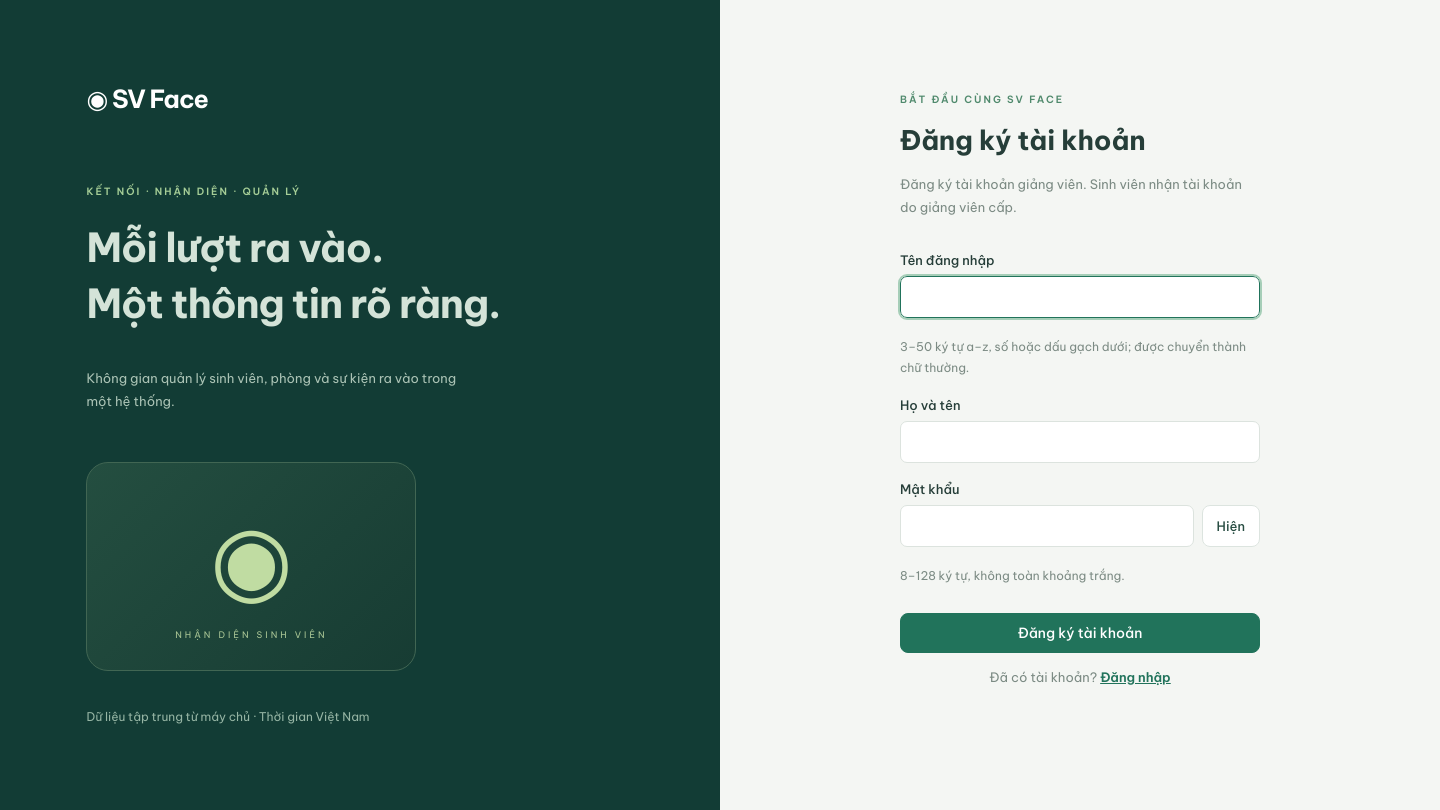
it: Đăng ký và đăng nhập đơn giản › username trùng 409 giữ trang đăng ký, không báo thành công
This screenshot has width=1440, height=810.
Step 1. Type "test_only" into the field labelled "Tên đăng nhập" → (1080, 297), box [900, 276, 1260, 318]
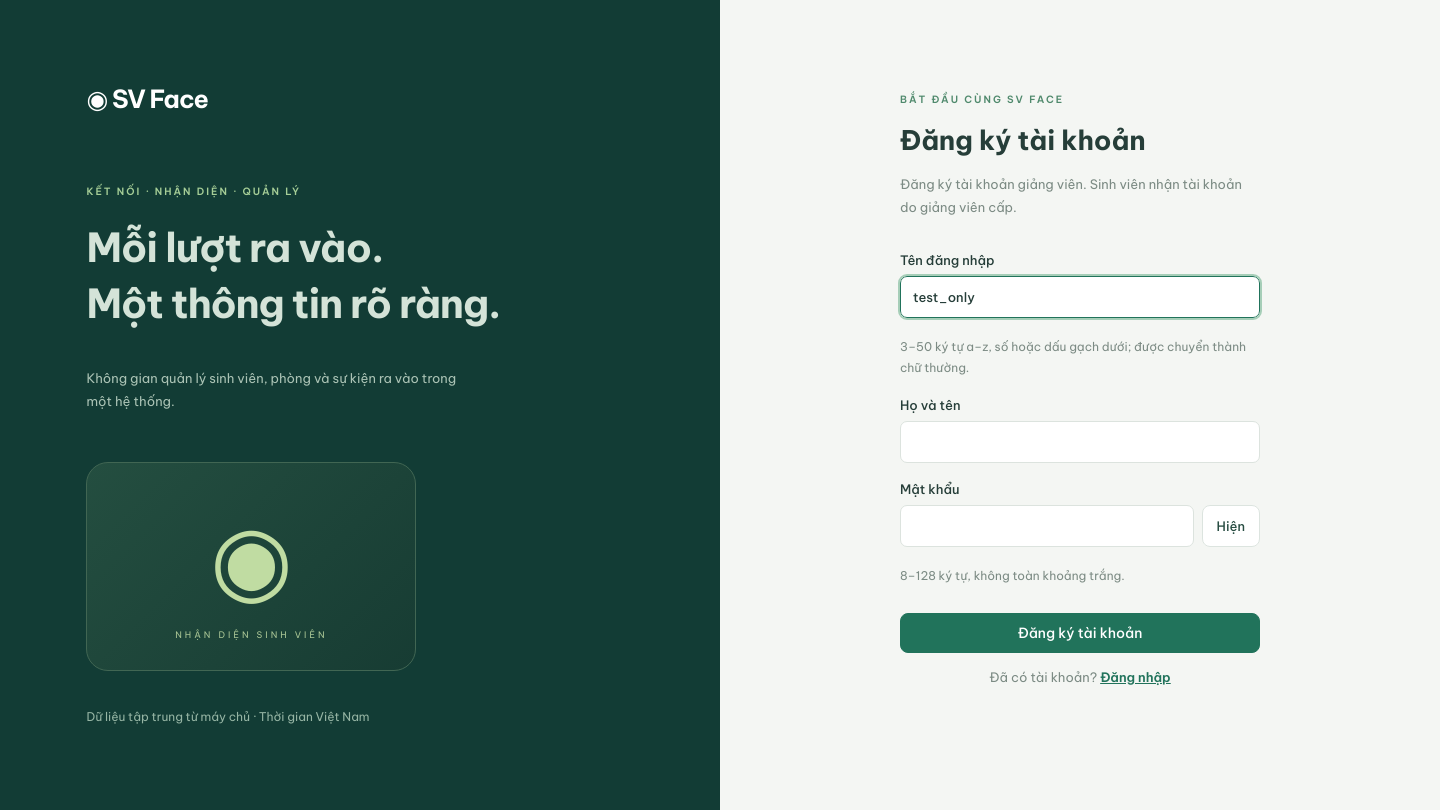
Step 2. Type "Tên kiểm thử" into the field labelled "Họ và tên" → (1080, 442), box [900, 421, 1260, 463]
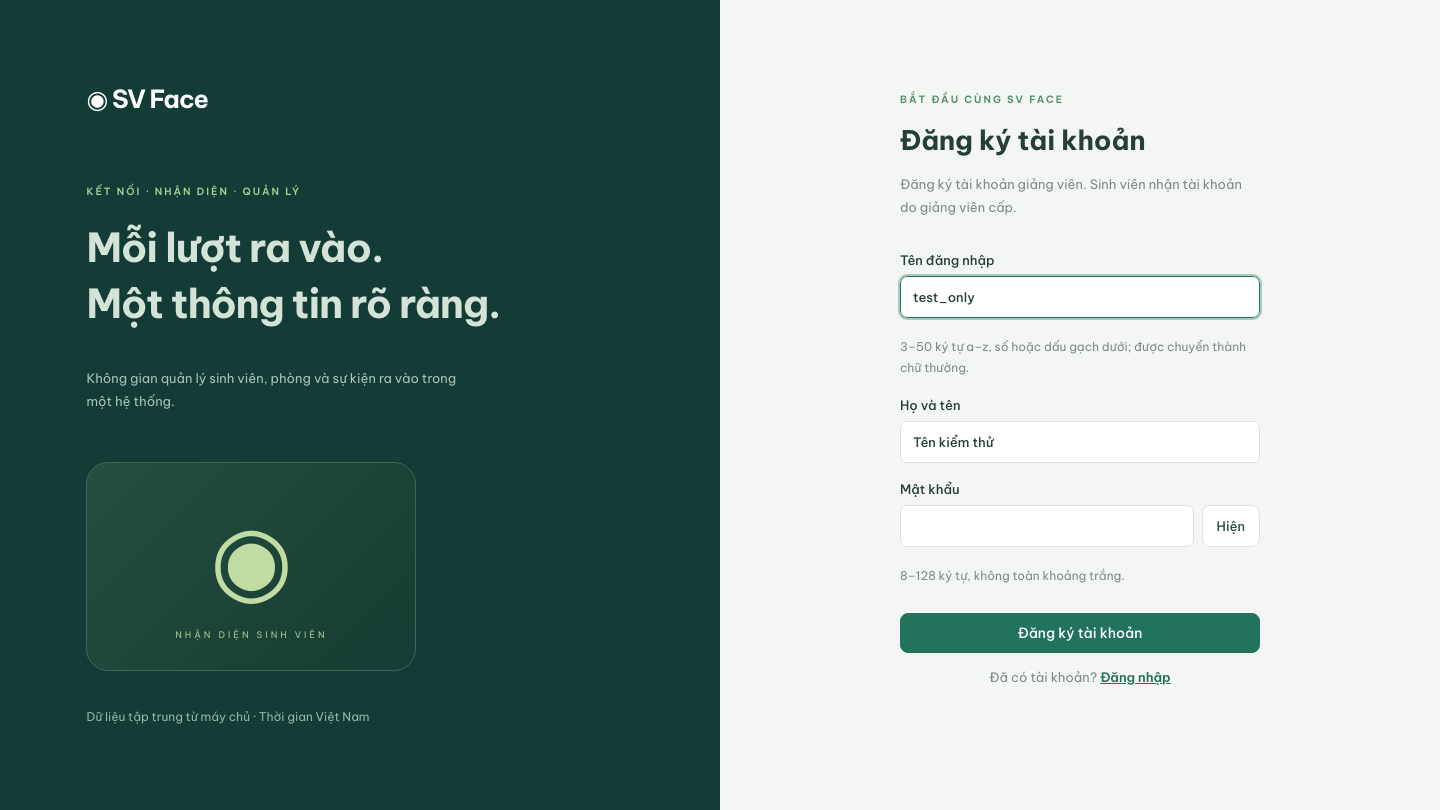
Step 3. Type "test-only-password" into the password field labelled "Mật khẩu" → (1047, 526), box [900, 505, 1194, 547]
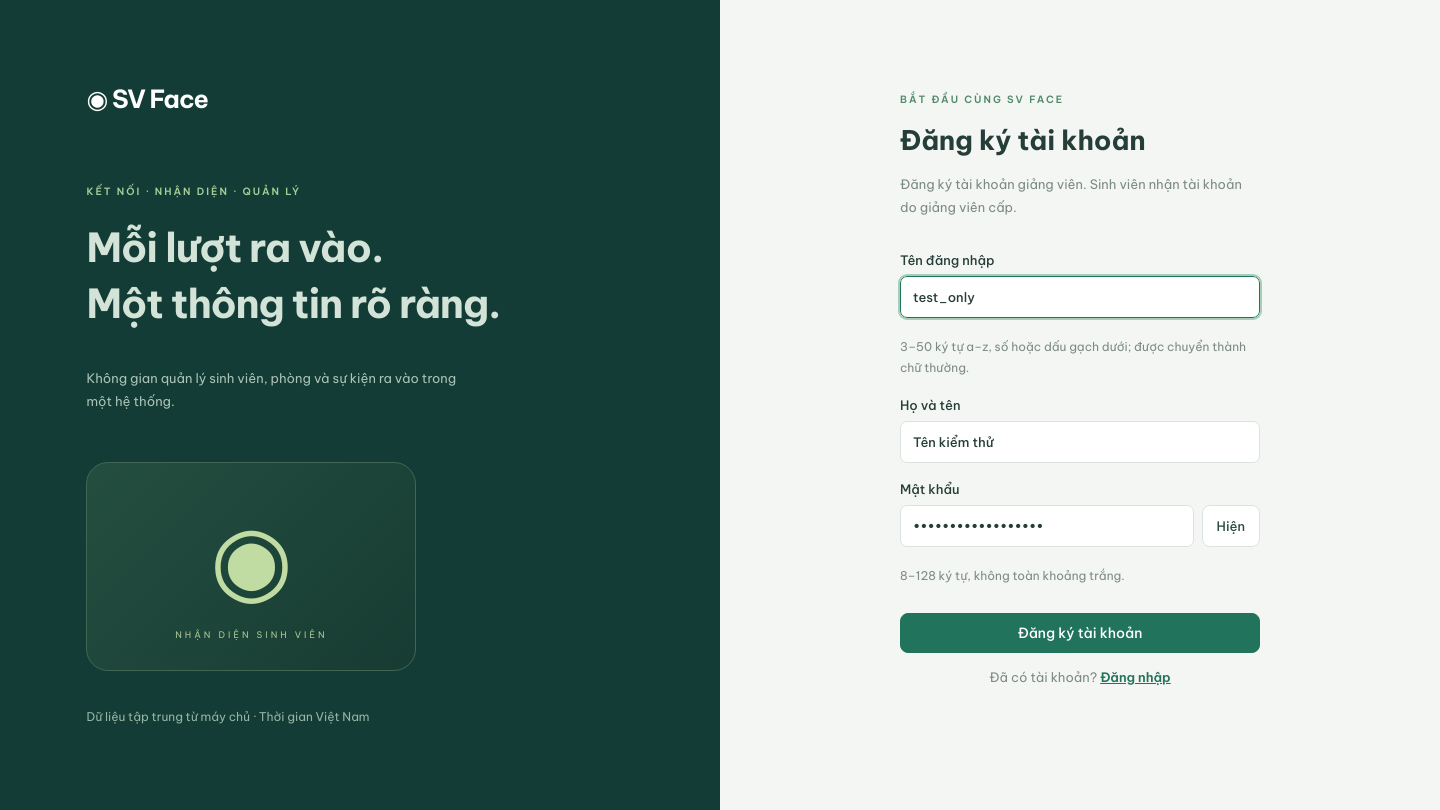
Step 4. Click the button "Đăng ký tài khoản" → (1080, 633), box [900, 613, 1260, 653]
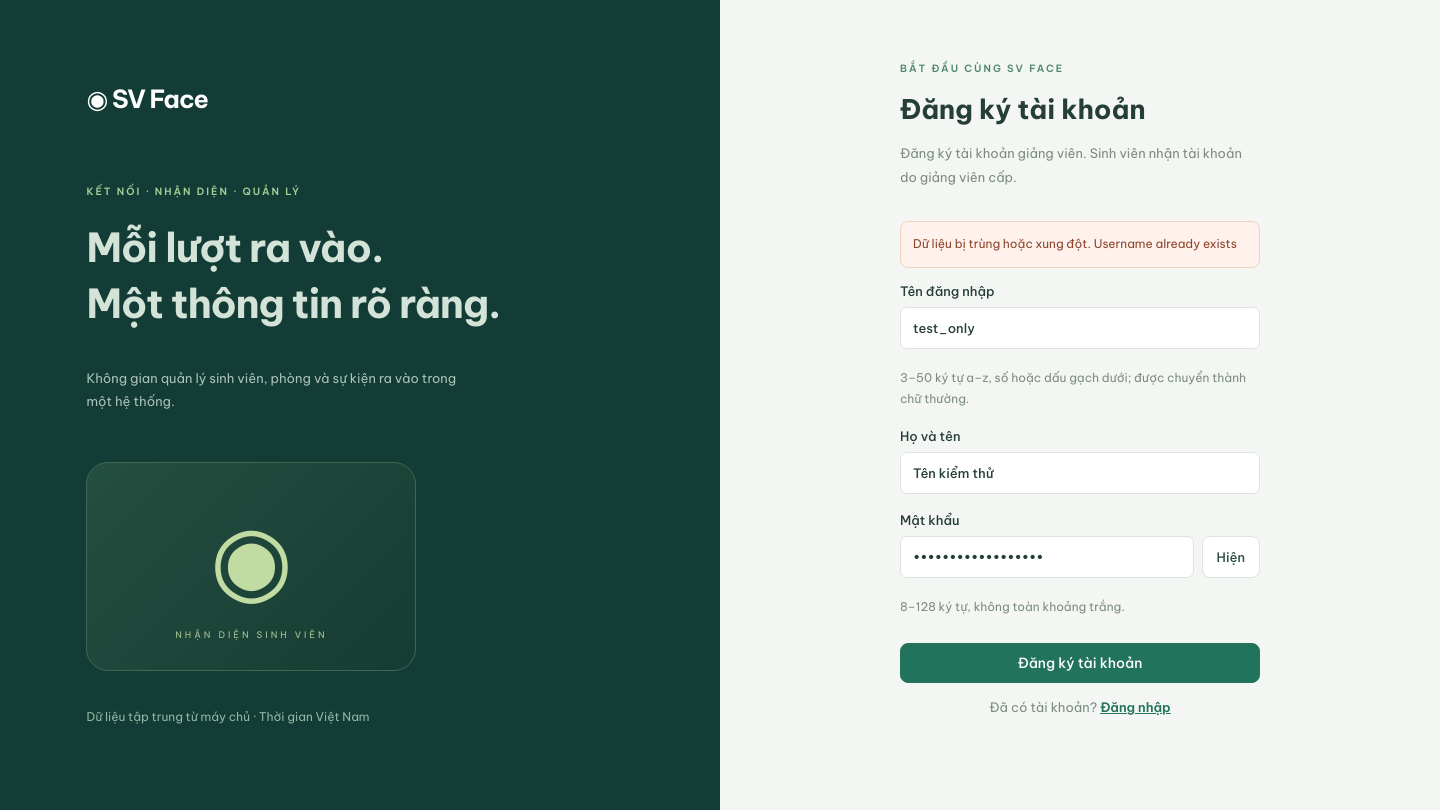
expect the text "Dữ liệu bị trùng hoặc xung đột. Username already exists" is shown: met, box [900, 221, 1260, 268]
